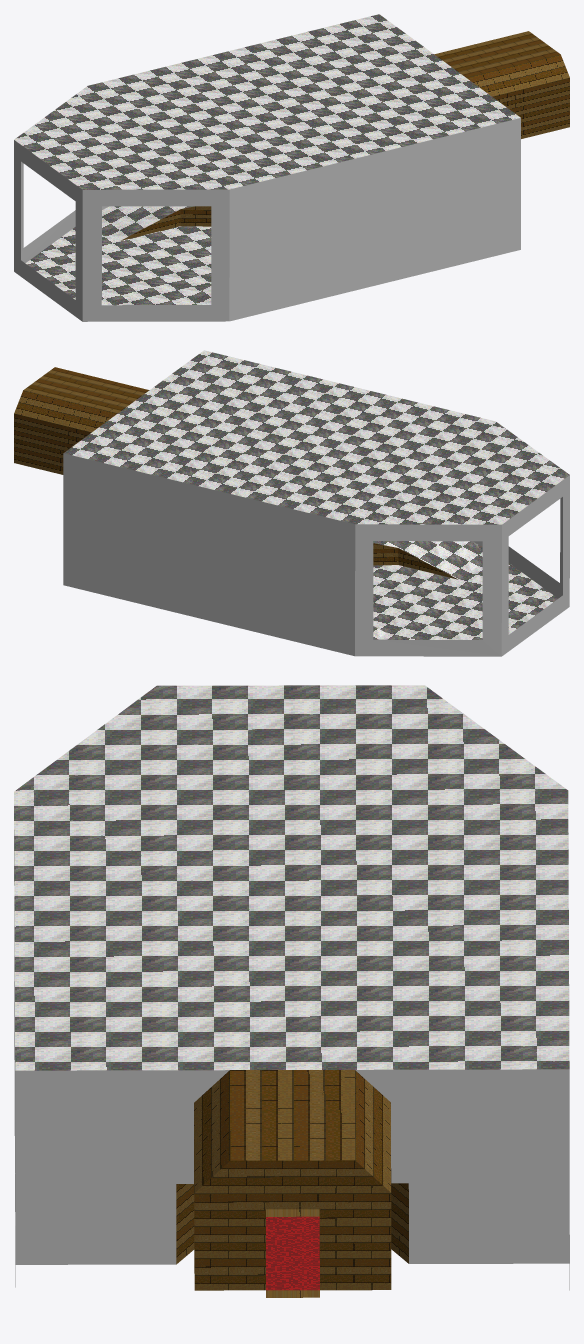
3 views of the same model, one above another, from view 1: azimuth 30°, elevation 25°; view 2: azimuth 150°, elevation 25°; view 3: azimuth 270°, elevation 25° (orthographic). The views are drawn at different scales.
Parts seen in each view (by area): view 1: default; view 2: default; view 3: default.
Boxes of the visible parts, box(x1,y1,x2,y2) form: default: box(14, 14, 569, 321); default: box(14, 350, 569, 656); default: box(14, 685, 569, 1297).
Bounding box in the file's own units: 16.39 × 4.11 × 7.96.
